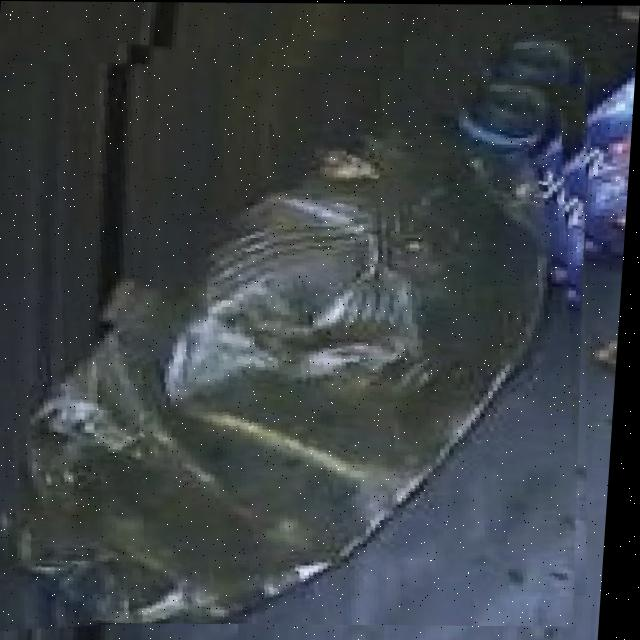litter: (0, 29, 613, 625)
